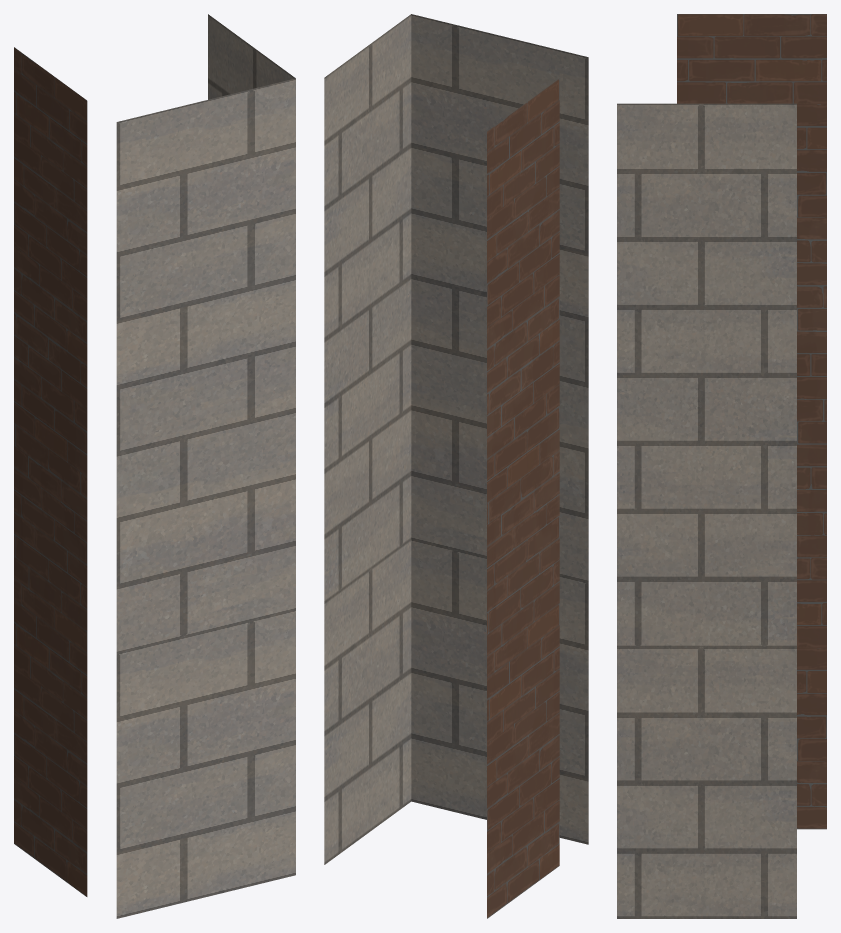
Rendered from Wall_WhiteBrick_90Angle_L.gltf.
The picture shows the model from 3 angles, left to right: view 1: azimuth 30°, elevation 25°; view 2: azimuth 150°, elevation 25°; view 3: azimuth 270°, elevation 25°; orthographic projection. The views are drawn at different scales.
Parts seen in each view (by area): view 1: Wall_WhiteBrick_90Angle_L; view 2: Wall_WhiteBrick_90Angle_L; view 3: Wall_WhiteBrick_90Angle_L.
Boxes of the visible parts, <box> form: Wall_WhiteBrick_90Angle_L: <box>14,14,295,918</box>; Wall_WhiteBrick_90Angle_L: <box>324,14,588,918</box>; Wall_WhiteBrick_90Angle_L: <box>617,14,826,918</box>.
Bounding box in the file's own units: 0.7062 × 3 × 0.7.
2 materials, 2 textured.
